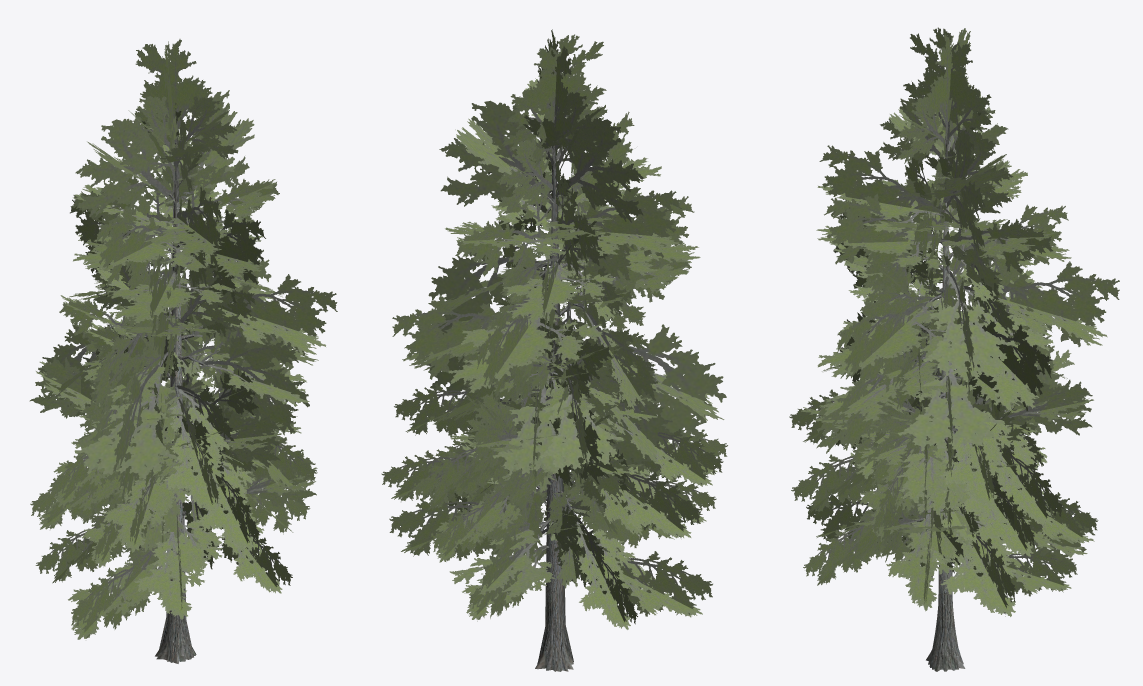
The model's file is TaxodiumDistichum.glb.
3 renders of one model, left to right at view 1: azimuth 30°, elevation 25°; view 2: azimuth 150°, elevation 25°; view 3: azimuth 270°, elevation 25°, orthographic. The views are drawn at different scales.
Parts seen in each view (by area): view 1: Baldcypress__Realistic_LOD3; view 2: Baldcypress__Realistic_LOD3; view 3: Baldcypress__Realistic_LOD3.
Boxes of the visible parts, left/top/right/bottom form: Baldcypress__Realistic_LOD3: left=29, top=39, right=337, bottom=663; Baldcypress__Realistic_LOD3: left=381, top=29, right=727, bottom=671; Baldcypress__Realistic_LOD3: left=789, top=27, right=1119, bottom=671.
Bounding box in the file's own units: 14.9 × 29.05 × 14.44.
1 material, 1 textured.
